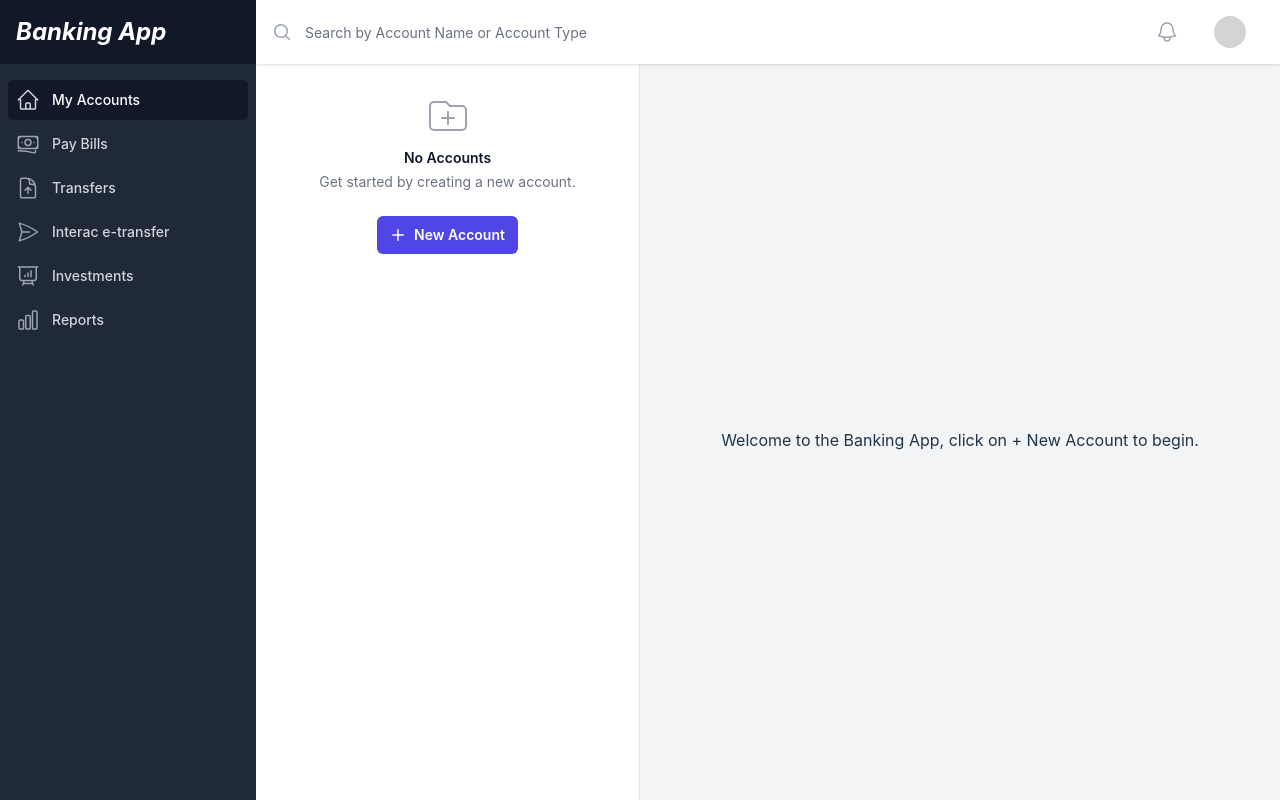
transactions › should allow the user to deposit into bank account
Click the button with test id "newAccountSideBar" at (448, 235), box [377,216,518,254]
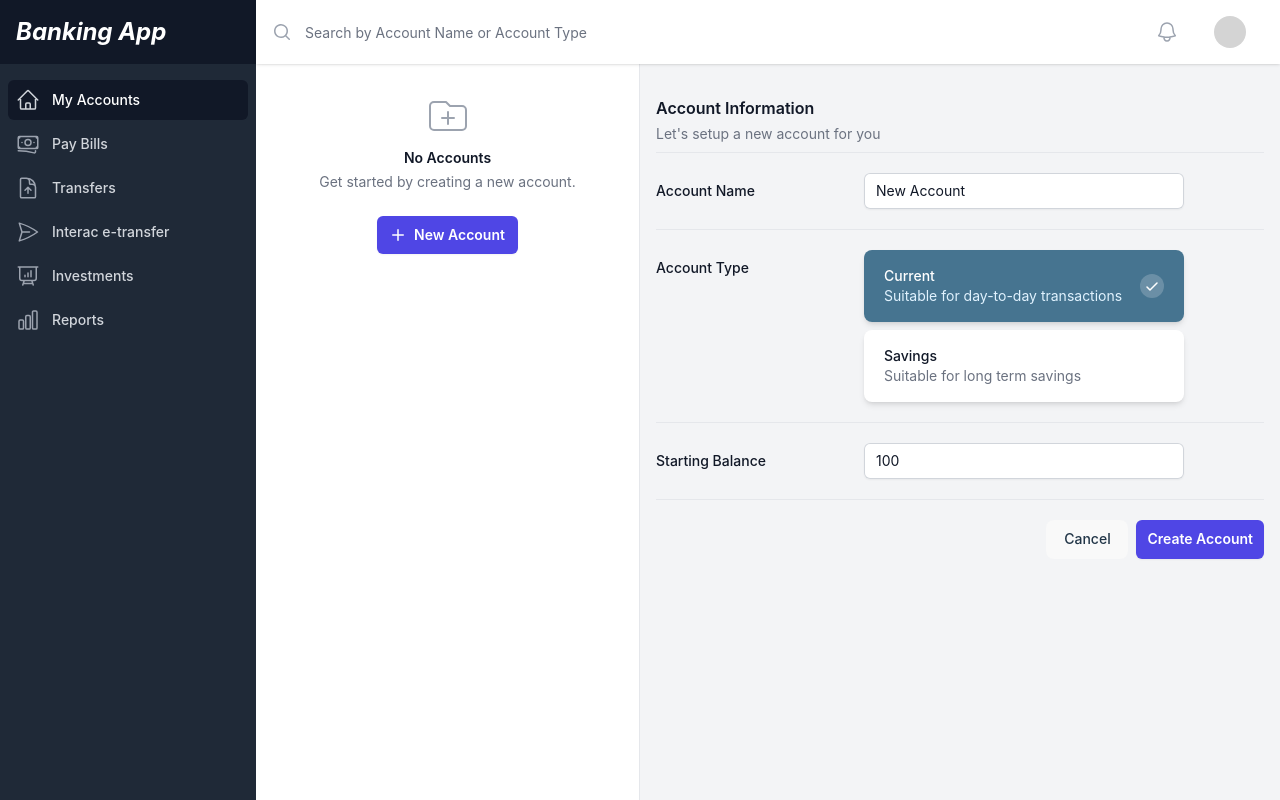
Expected: the heading "Account Information" is shown, [656,98,814,118]
Replace the text in the field with id "account-name" with "Test Account 1" at (1024, 191), box [864,173,1184,209]
Replace the text in the number field with id "starting-balance" with "1000" at (1024, 461), box [864,443,1184,479]
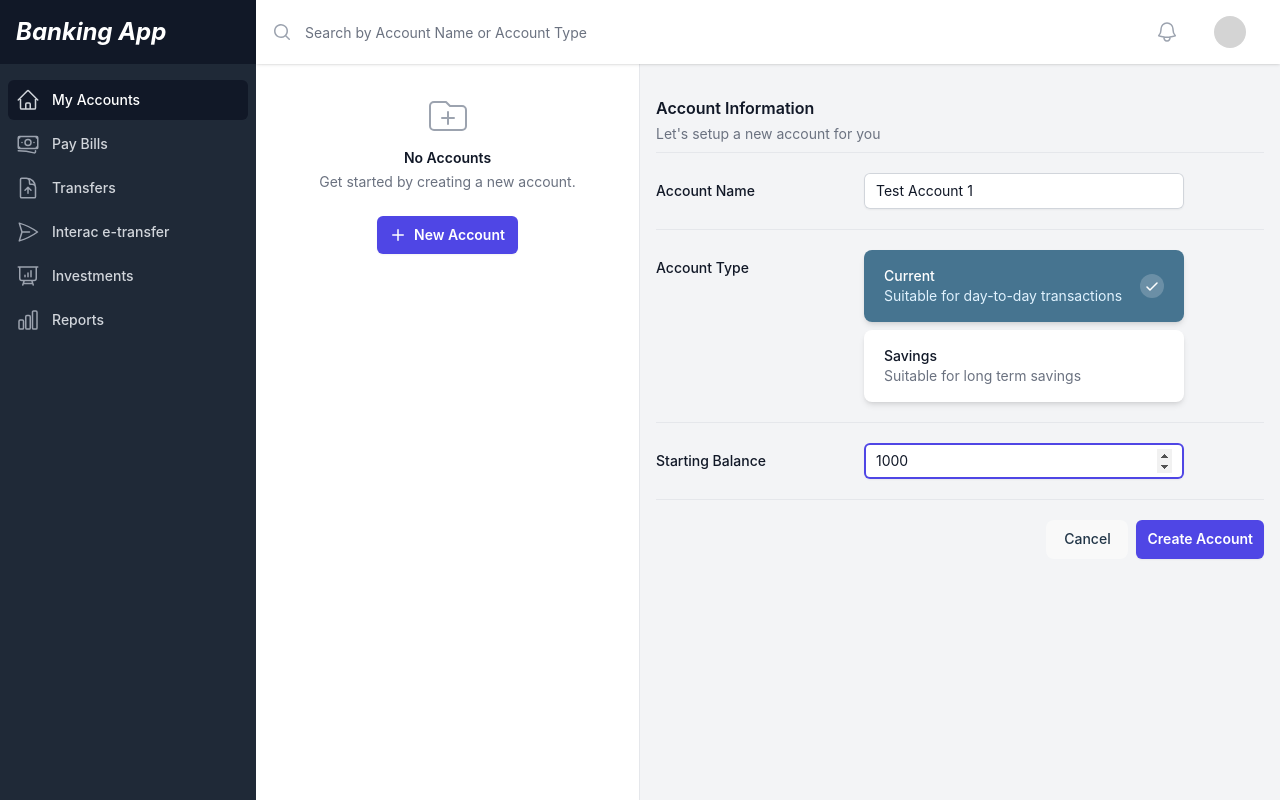
Click the button with test id "createAccount" at (1201, 540), box [1137,520,1265,559]
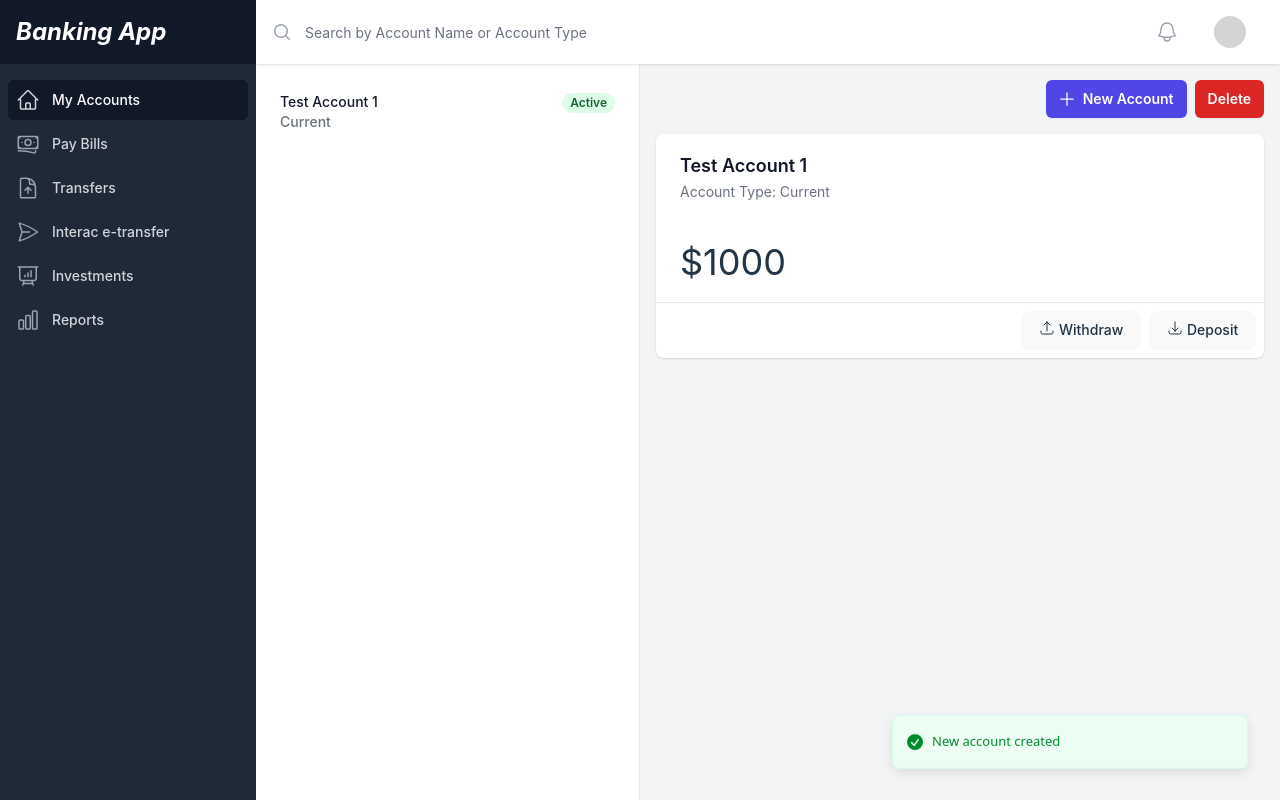
Click the button with test id "deposit" at (1203, 331), box [1149,311,1256,350]
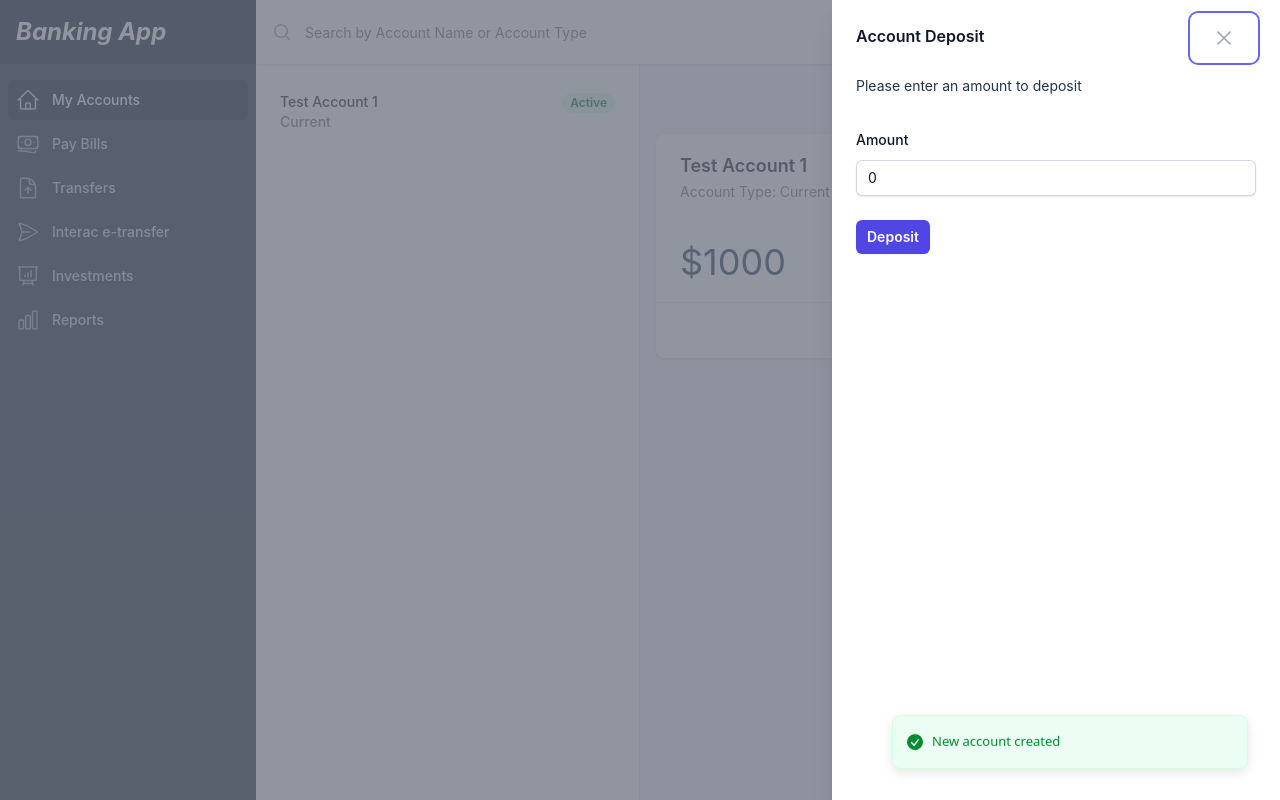
Replace the text in the number field with id "amount" with "100" at (1056, 178), box [856,160,1256,196]
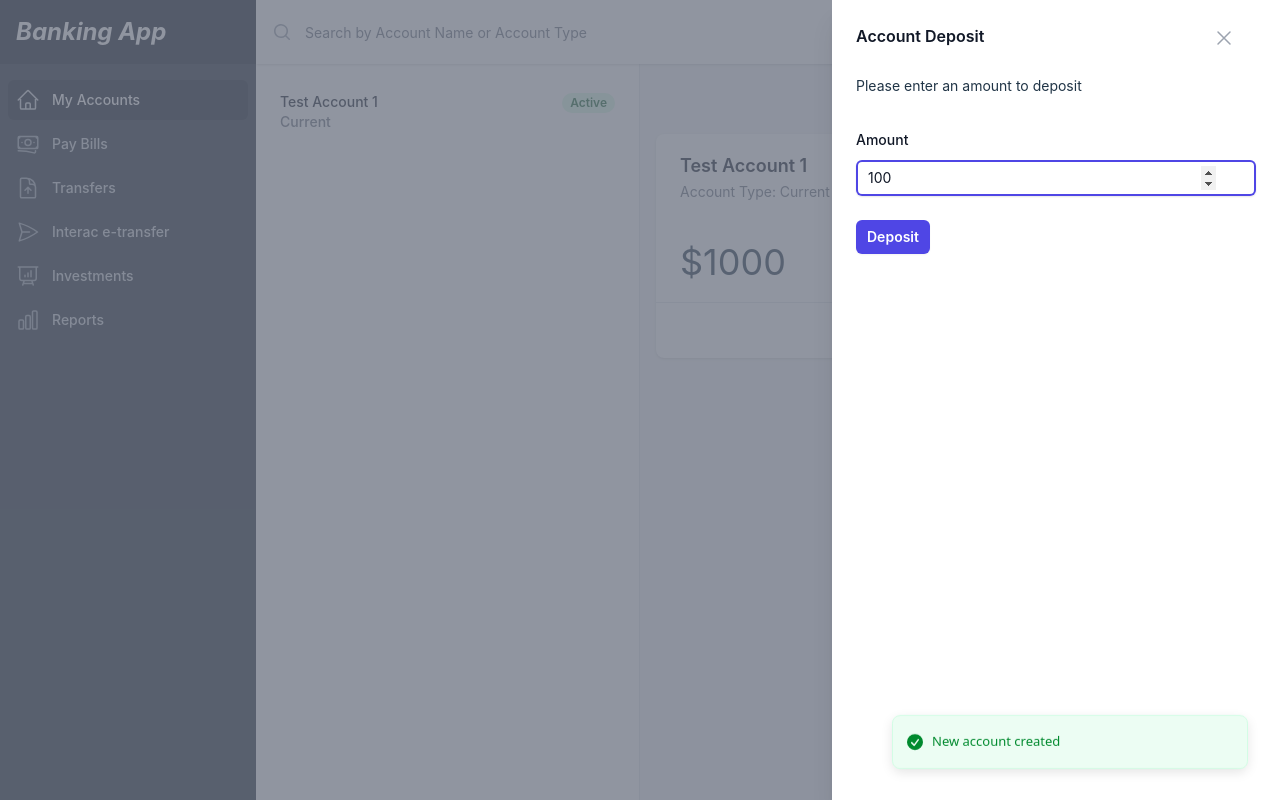
Click the button with test id "submitDeposit" at (893, 237), box [856,220,930,254]
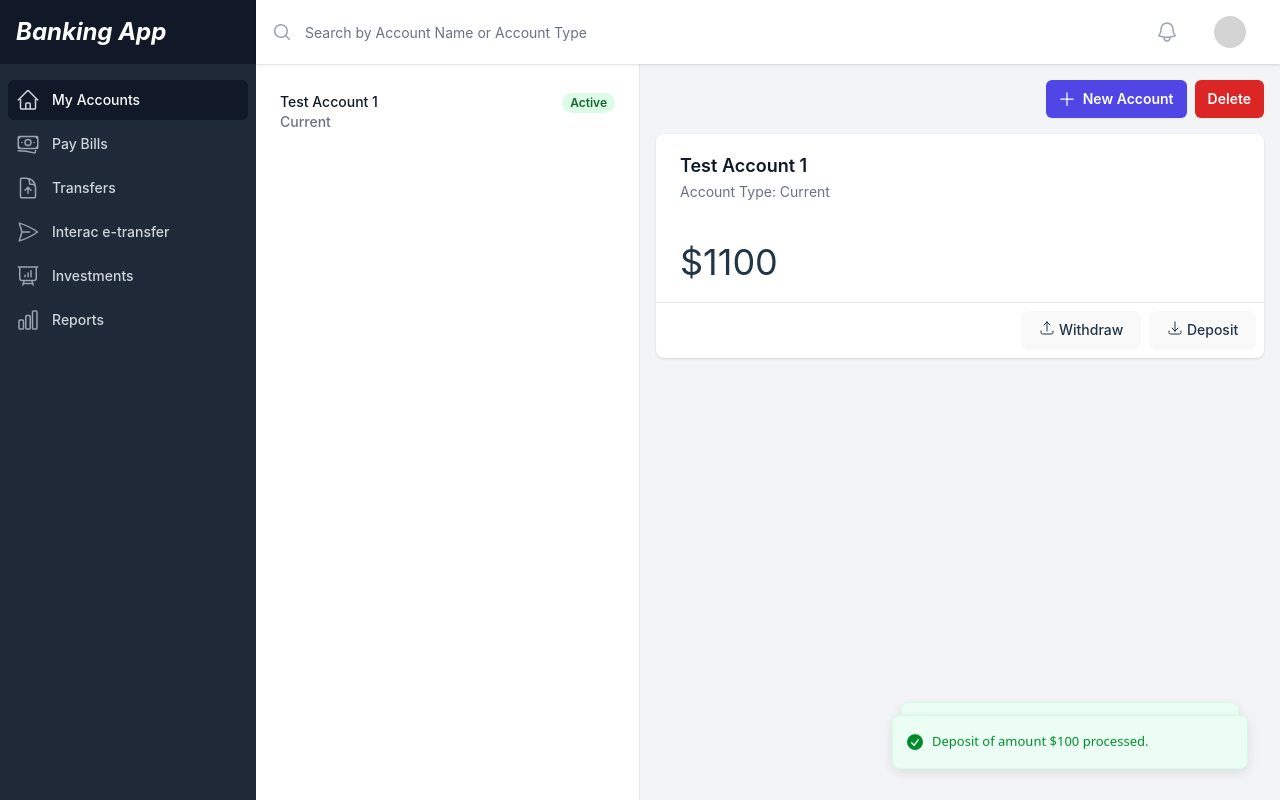
Now the text with test id "accountBalance" reads "$1100", box [680,240,778,284]
